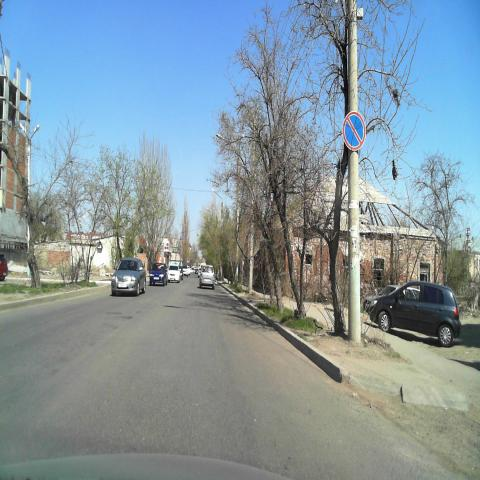3_28: (342, 110, 366, 151)
